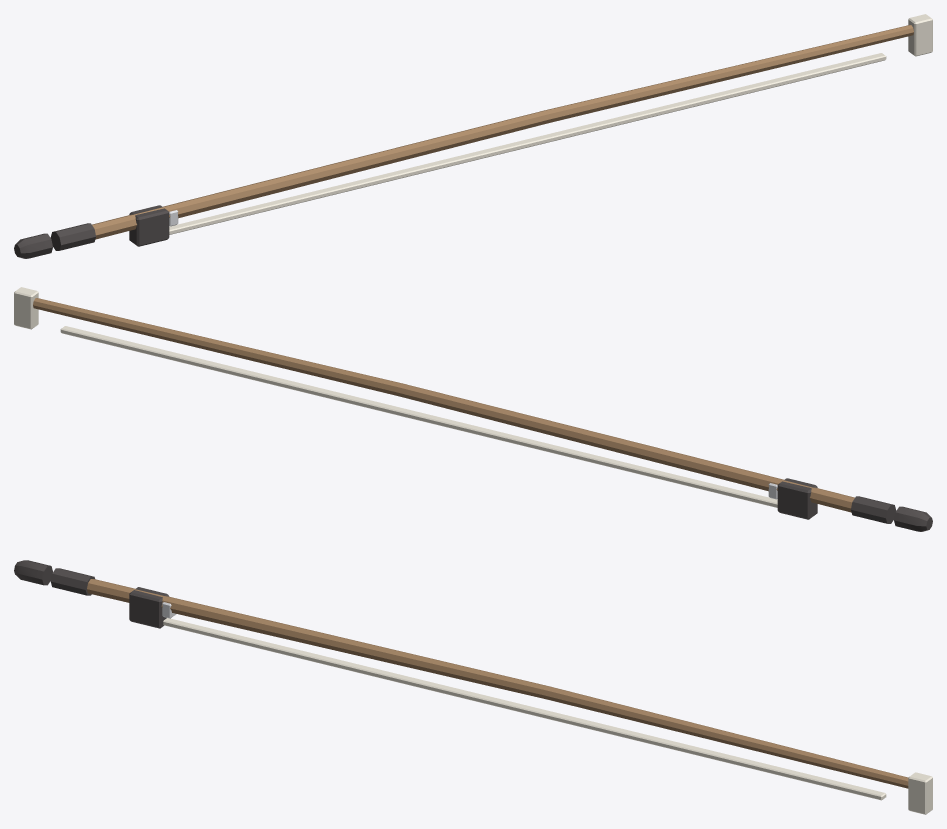
File: bow-4.glb
The picture shows the model from 3 angles, top to bottom: view 1: azimuth 30°, elevation 25°; view 2: azimuth 150°, elevation 25°; view 3: azimuth 330°, elevation 25°; orthographic projection.
Parts seen in each view (by area): view 1: cello-bow; view 2: cello-bow; view 3: cello-bow.
Part boxes in pixels (box(x1,y1,x2,y2)): cello-bow: box(14, 14, 932, 258); cello-bow: box(14, 287, 932, 531); cello-bow: box(14, 560, 932, 814).
Bounding box in the file's own units: 0.782 × 0.028 × 0.016.
